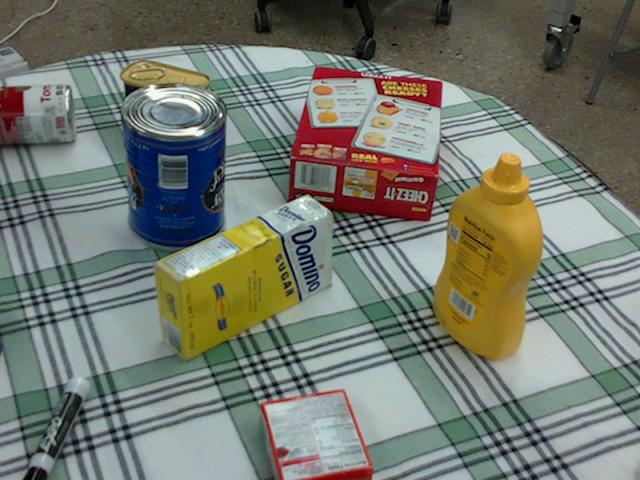cracker_box: (288, 67, 441, 220)
gelatin_box: (258, 389, 370, 479)
large_marker: (18, 376, 88, 479)
master_chef_can: (117, 83, 224, 251)
mustard_bottle: (433, 152, 542, 357)
potted_meat_can: (120, 61, 209, 152)
sugar_box: (152, 195, 331, 360)
tomato_soup_can: (0, 84, 74, 143)
